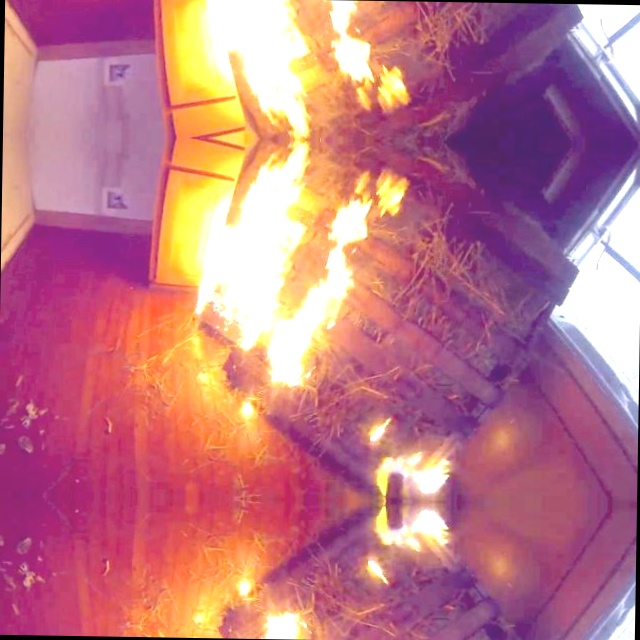fire: (171, 0, 404, 461)
